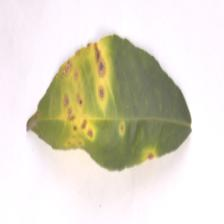canker: (41, 43, 118, 140)
